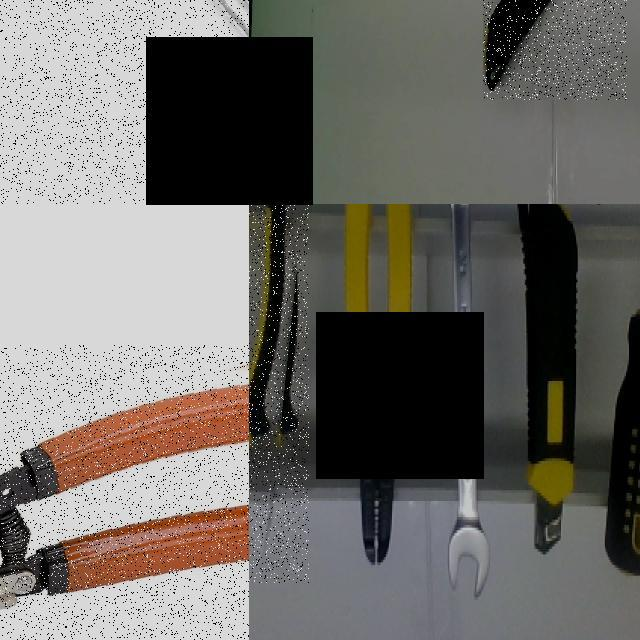estilete: (519, 205, 577, 553)
